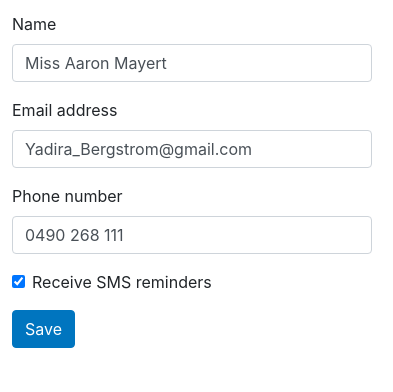
Reject invalid Australian phone number input
Replace the text in the field labelled "Phone number" with "grault" at (192, 235), box x1=12 y1=216 x2=372 y2=254
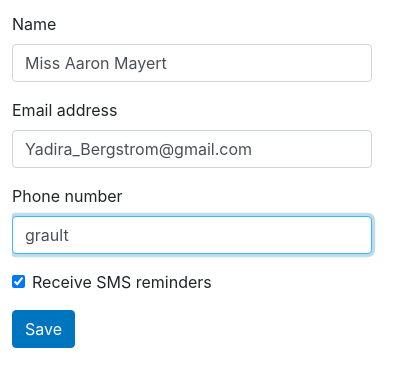
Click the button "Save" at (44, 329), box x1=12 y1=310 x2=75 y2=348
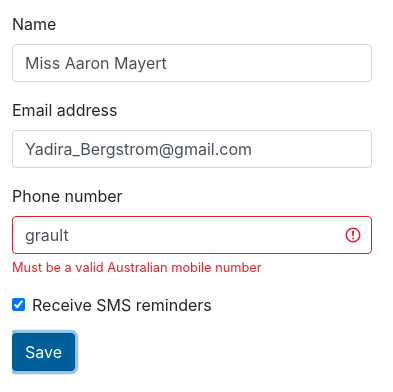
Check: the text "Must be a valid Australian mobile number" is shown, box x1=12 y1=260 x2=262 y2=275
